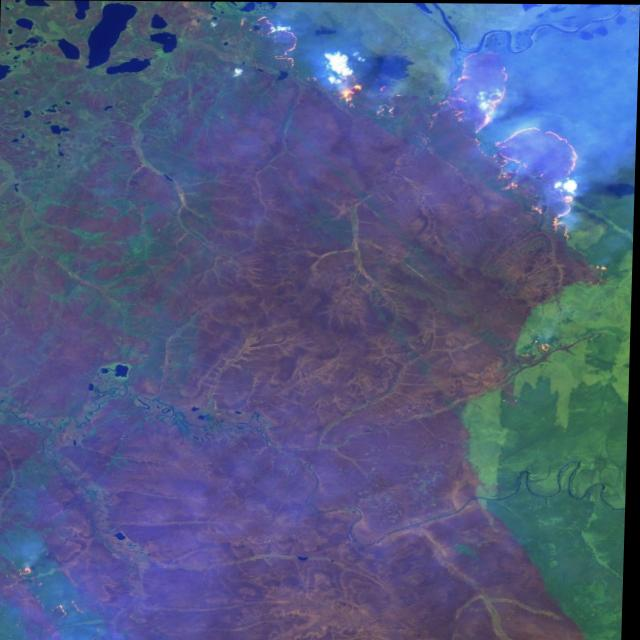fire: (225, 12, 589, 242)
